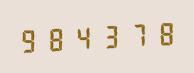eight: (43, 22, 68, 54), (148, 17, 173, 48)
four: (70, 21, 95, 53)
nine: (17, 24, 42, 55)
seven: (122, 18, 147, 50)
three: (96, 20, 121, 51)
